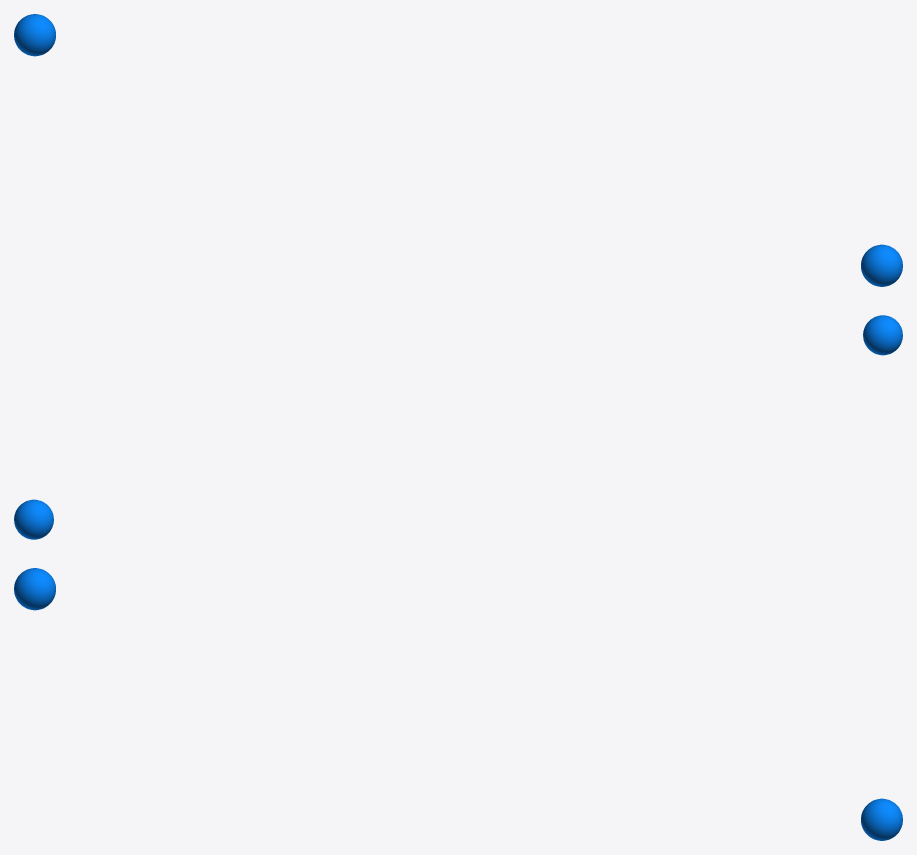
3 renders of one model, top to bottom at view 1: azimuth 90°, elevation 25°; view 2: azimuth 150°, elevation 25°; view 3: azimuth 270°, elevation 25°, orthographic. The views are drawn at different scales.
Visible parts, largest first — view 1: Sphere052; view 2: Sphere052; view 3: Sphere052.
Part boxes in pixels (left/top/right/bottom): Sphere052: left=14, top=14, right=902, bottom=286; Sphere052: left=14, top=315, right=902, bottom=539; Sphere052: left=14, top=568, right=902, bottom=840.
Size of the model in its own units: 114 by 8.22 by 173.
